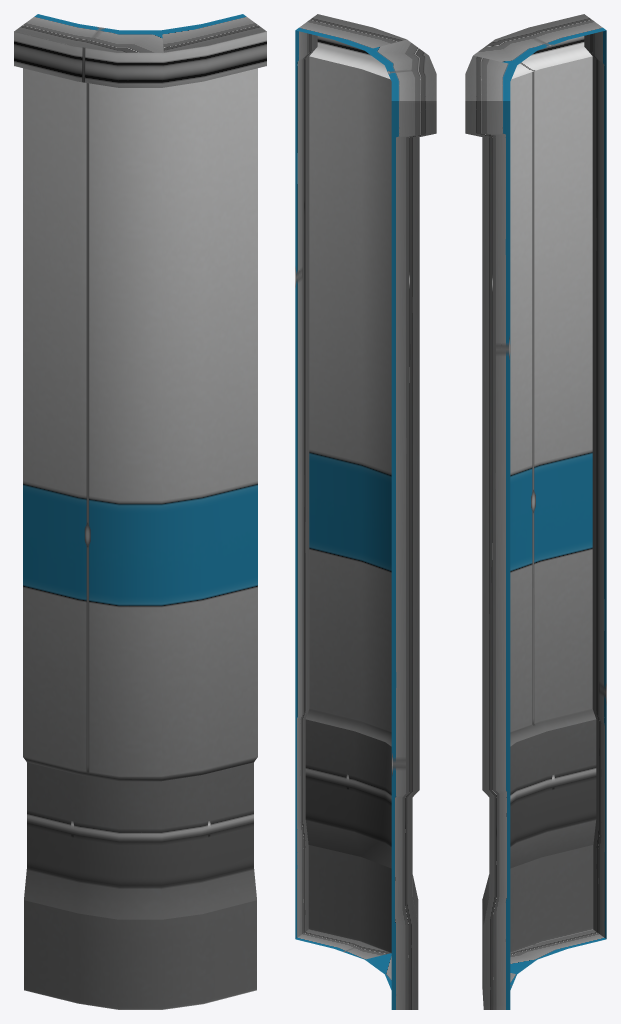
Rendered from OBT_MOT_BB.fbx.
3 renders of one model, left to right at view 1: azimuth 30°, elevation 25°; view 2: azimuth 150°, elevation 25°; view 3: azimuth 270°, elevation 25°, orthographic. The views are drawn at different scales.
Parts seen in each view (by area): view 1: OBT_MOT_BB; view 2: OBT_MOT_BB; view 3: OBT_MOT_BB.
Boxes of the visible parts, x1=… form: OBT_MOT_BB: x1=14, y1=14, x2=266, y2=1009; OBT_MOT_BB: x1=295, y1=14, x2=436, y2=1009; OBT_MOT_BB: x1=465, y1=14, x2=606, y2=1009.
Bounding box in the file's own units: 0.924 × 4.5 × 0.6343.
